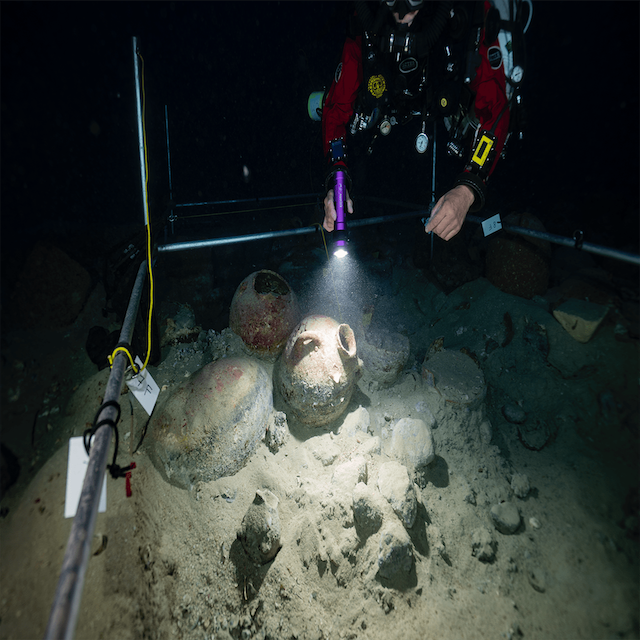amphora: (274, 314, 366, 426), (225, 269, 302, 356)
